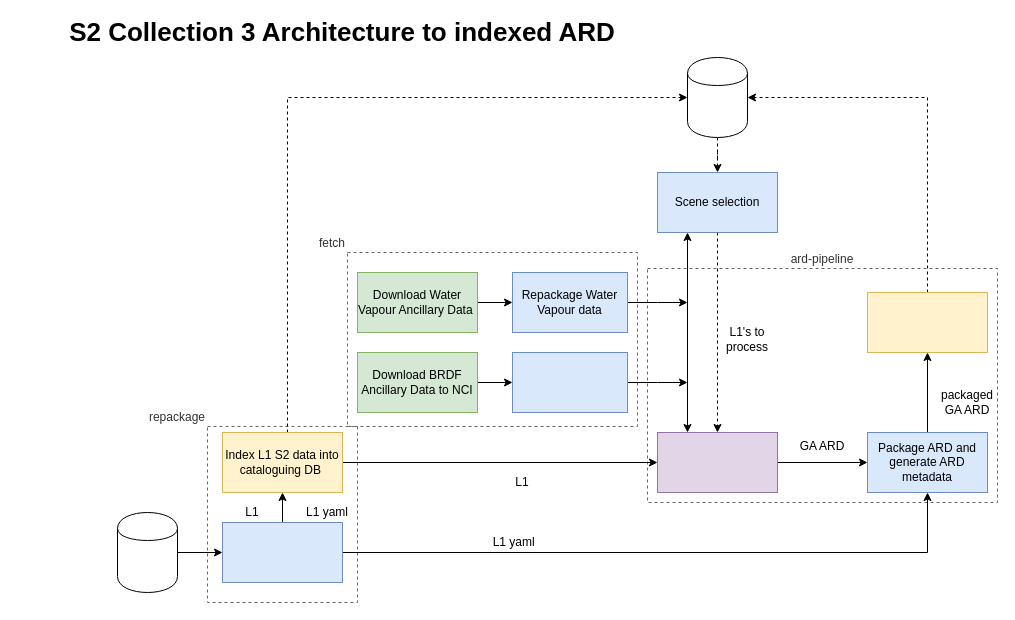
Some shapes in this 1015 by 620 pixel diagram are drawn without their labels. Here are the shapes that lost their labels. From the top down, the centre of each, then its label:
At pixel 717 97: "ODC".
At pixel 927 322: "Index data into ODC".
At pixel 570 382: "Repackage BRDF data".
At pixel 717 462: "Process L1 to L2 ARD Data".
At pixel 282 552: "Create L1 metadata".
